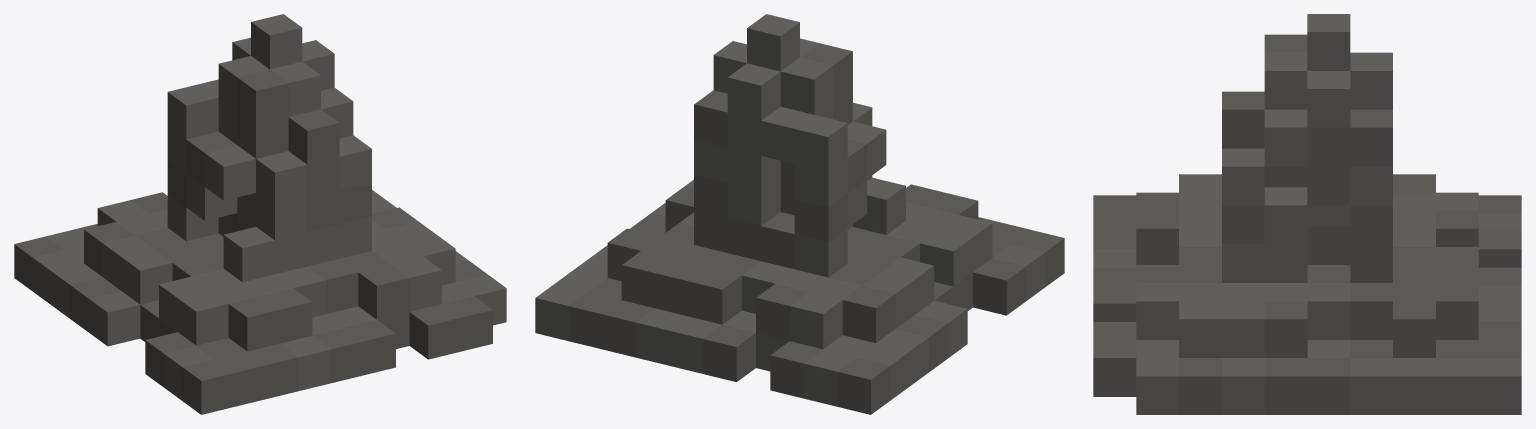
Rendered from church-5-catac_pillarsbroken.obj.
3 views of the same model, side by side, from view 1: azimuth 30°, elevation 25°; view 2: azimuth 150°, elevation 25°; view 3: azimuth 270°, elevation 25° (orthographic). The views are drawn at different scales.
Parts seen in each view (by area): view 1: catac_pillarsbroken; view 2: catac_pillarsbroken; view 3: catac_pillarsbroken.
Boxes of the visible parts, x1,y1,x2,y2 form: catac_pillarsbroken: (14, 14, 506, 414); catac_pillarsbroken: (535, 14, 1064, 414); catac_pillarsbroken: (1093, 14, 1521, 414).
Size of the model in its own units: 1 by 0.8 by 1.
1 material, 1 textured.
